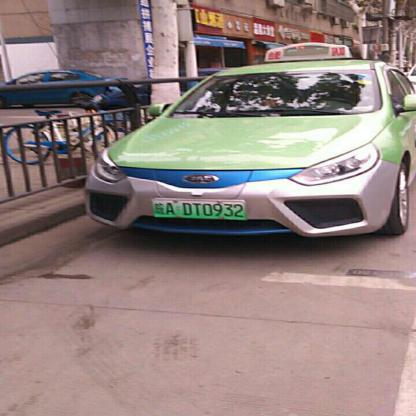lp: (153, 198, 245, 218)
